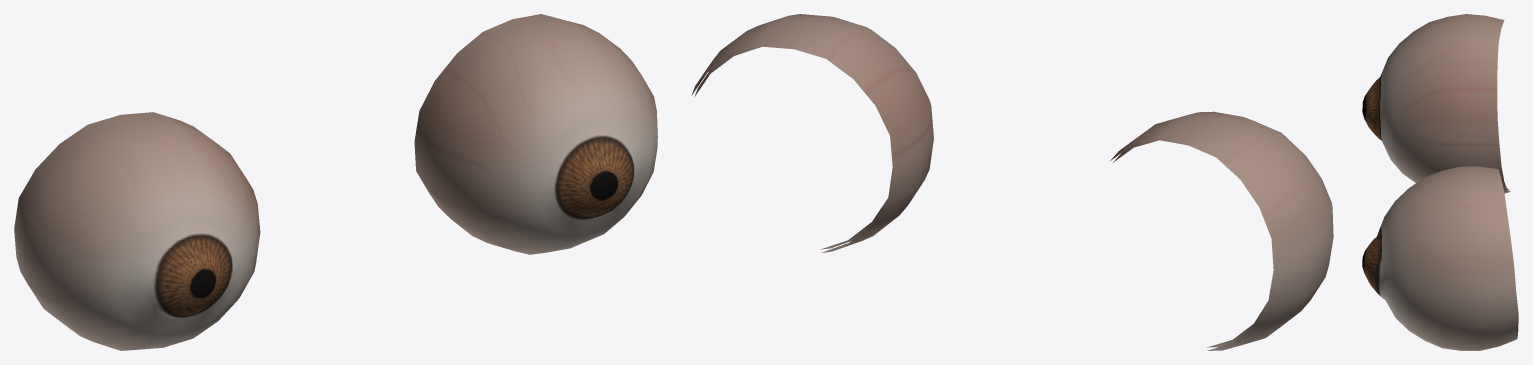
The model's file is bodyforge-ocular-detail.glb.
3 views of the same model, side by side, from view 1: azimuth 30°, elevation 25°; view 2: azimuth 150°, elevation 25°; view 3: azimuth 270°, elevation 25° (orthographic). The views are drawn at different scales.
Visible parts, largest first — view 1: BODYFORGE_OcularDetail; view 2: BODYFORGE_OcularDetail; view 3: BODYFORGE_OcularDetail.
Part boxes in pixels (x1,y1,x2,y2): BODYFORGE_OcularDetail: (14, 14, 657, 350); BODYFORGE_OcularDetail: (691, 14, 1333, 350); BODYFORGE_OcularDetail: (1362, 14, 1518, 350).
Size of the model in its own units: 0.0921 by 0.0306 by 0.0261.
Materials: 1 (1 with a texture image).
